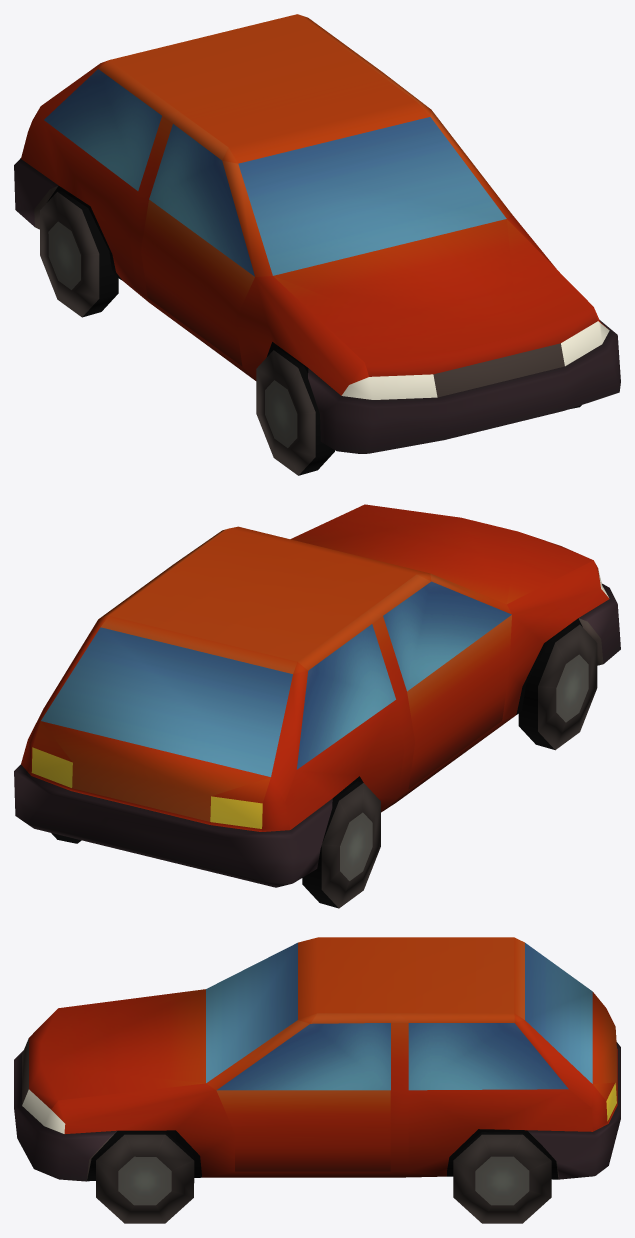
File: 1.100_SanFrancisco_extra_05.glb
3 renders of one model, top to bottom at view 1: azimuth 30°, elevation 25°; view 2: azimuth 150°, elevation 25°; view 3: azimuth 270°, elevation 25°, orthographic. The views are drawn at different scales.
Visible parts, largest first — view 1: 1.100_SanFrancisco_extra_05; view 2: 1.100_SanFrancisco_extra_05; view 3: 1.100_SanFrancisco_extra_05.
Part boxes in pixels (<box>): 1.100_SanFrancisco_extra_05: <box>14,14,620,475</box>; 1.100_SanFrancisco_extra_05: <box>14,504,620,908</box>; 1.100_SanFrancisco_extra_05: <box>14,937,620,1223</box>.
Bounding box in the file's own units: 23.51 × 17.86 × 51.32.
Materials: 1 (1 with a texture image).
